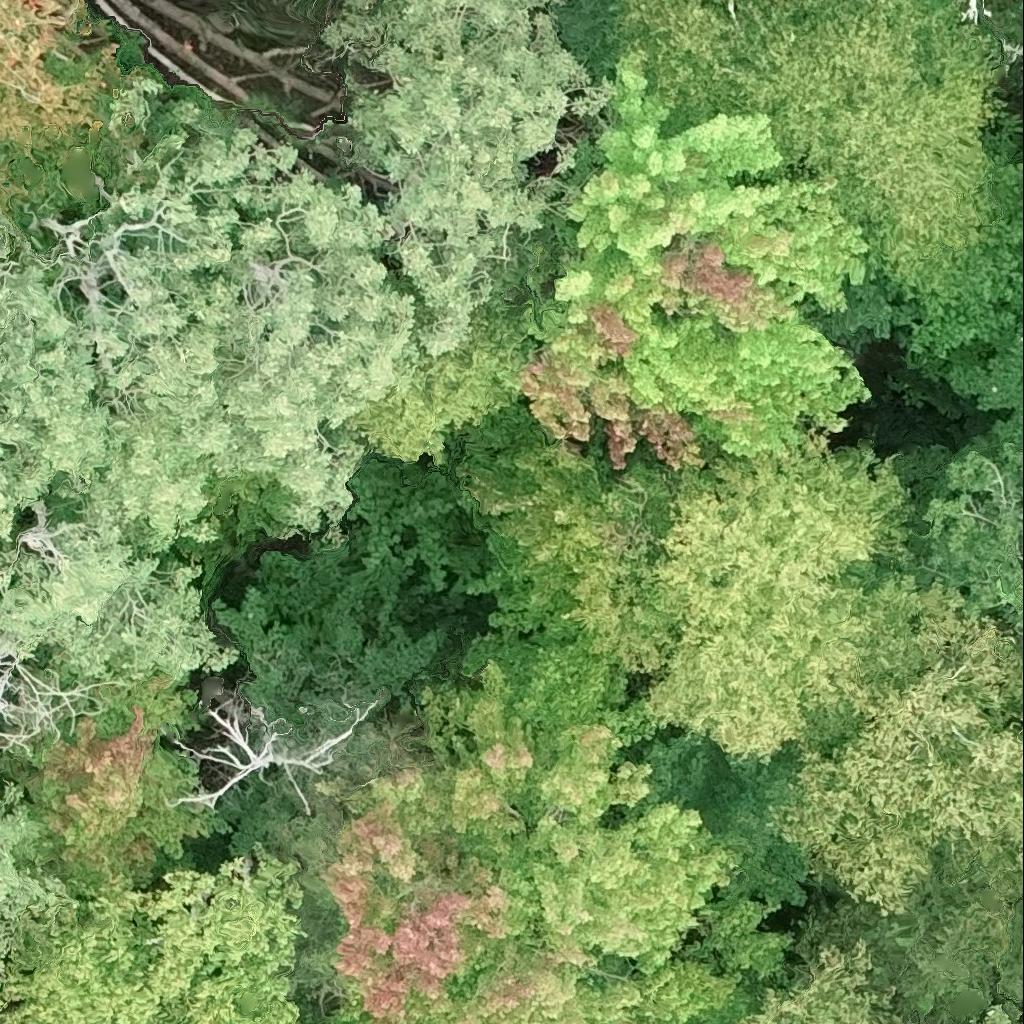crown: (0, 0, 588, 682), (609, 0, 1023, 363), (322, 667, 740, 1023), (527, 59, 866, 470), (523, 451, 919, 762), (785, 583, 1023, 920), (459, 401, 672, 764), (0, 850, 302, 1023), (10, 672, 227, 901), (417, 900, 795, 1023), (169, 697, 381, 811), (0, 0, 113, 145), (935, 456, 1023, 629), (741, 945, 899, 1023), (956, 317, 1023, 465), (0, 787, 57, 950), (330, 984, 365, 1023), (968, 1012, 1023, 1023), (960, 0, 977, 19)
